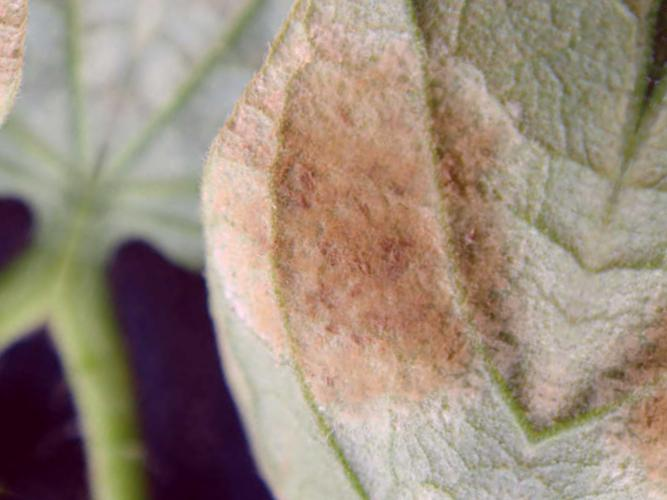Tomato mold leaf: (53, 0, 667, 500)
